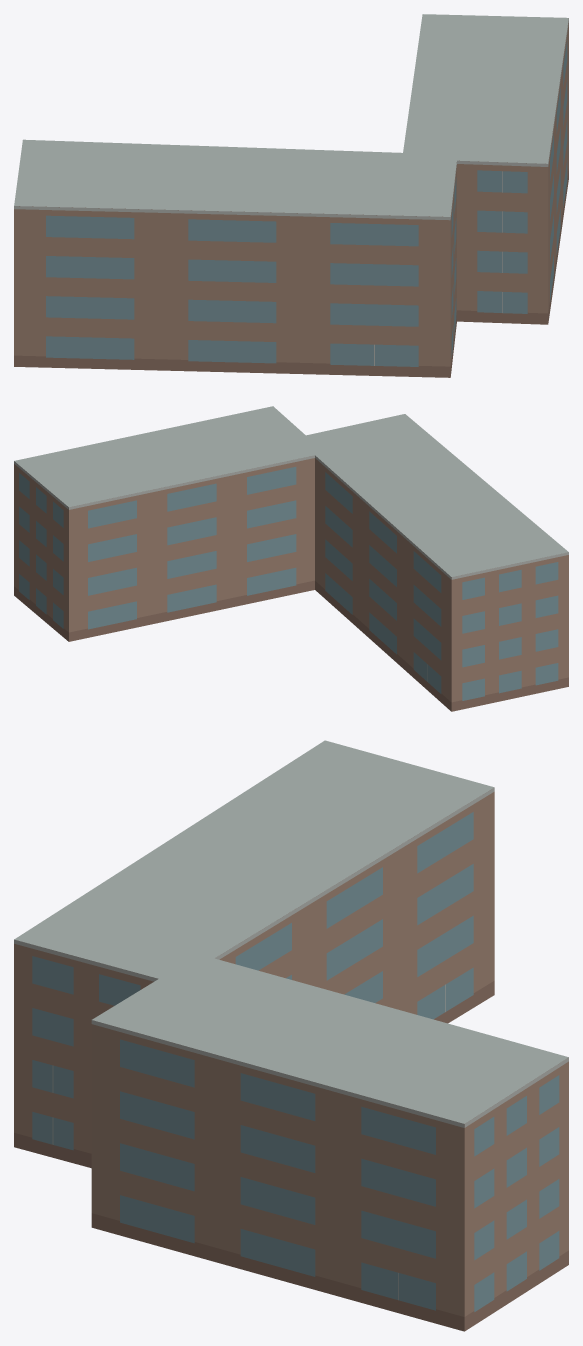
The model's file is survey-upis-33016527.glb.
3 renders of one model, top to bottom at view 1: azimuth 30°, elevation 25°; view 2: azimuth 150°, elevation 25°; view 3: azimuth 270°, elevation 25°, orthographic. The views are drawn at different scales.
Visible parts, largest first — view 1: survey-upis-33016527.tmp; view 2: survey-upis-33016527.tmp; view 3: survey-upis-33016527.tmp.
Boxes of the visible parts, x1=… form: survey-upis-33016527.tmp: x1=14, y1=14, x2=568, y2=377; survey-upis-33016527.tmp: x1=14, y1=406, x2=568, y2=711; survey-upis-33016527.tmp: x1=14, y1=740, x2=568, y2=1331.
Bounding box in the file's own units: 48.34 × 12.2 × 29.55.
